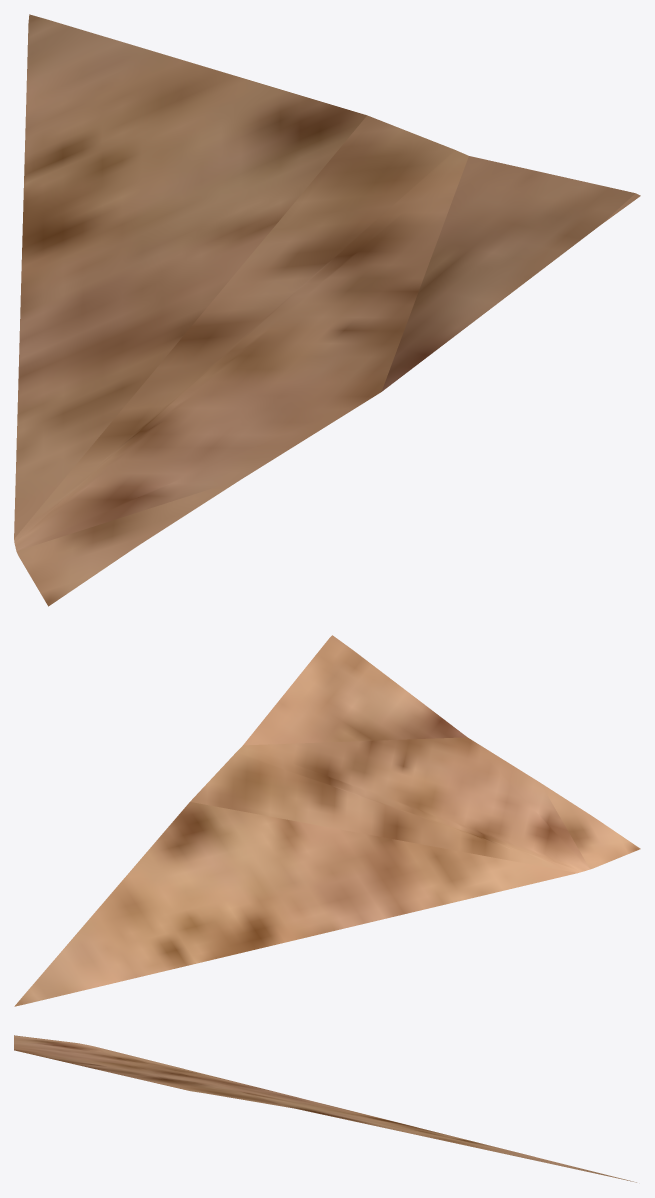
3 views of the same model, one above another, from view 1: azimuth 30°, elevation 25°; view 2: azimuth 150°, elevation 25°; view 3: azimuth 270°, elevation 25° (orthographic). The views are drawn at different scales.
Bounding box in the file's own units: 0.1271 × 0.0546 × 0.2273.
1 material, 1 textured.
